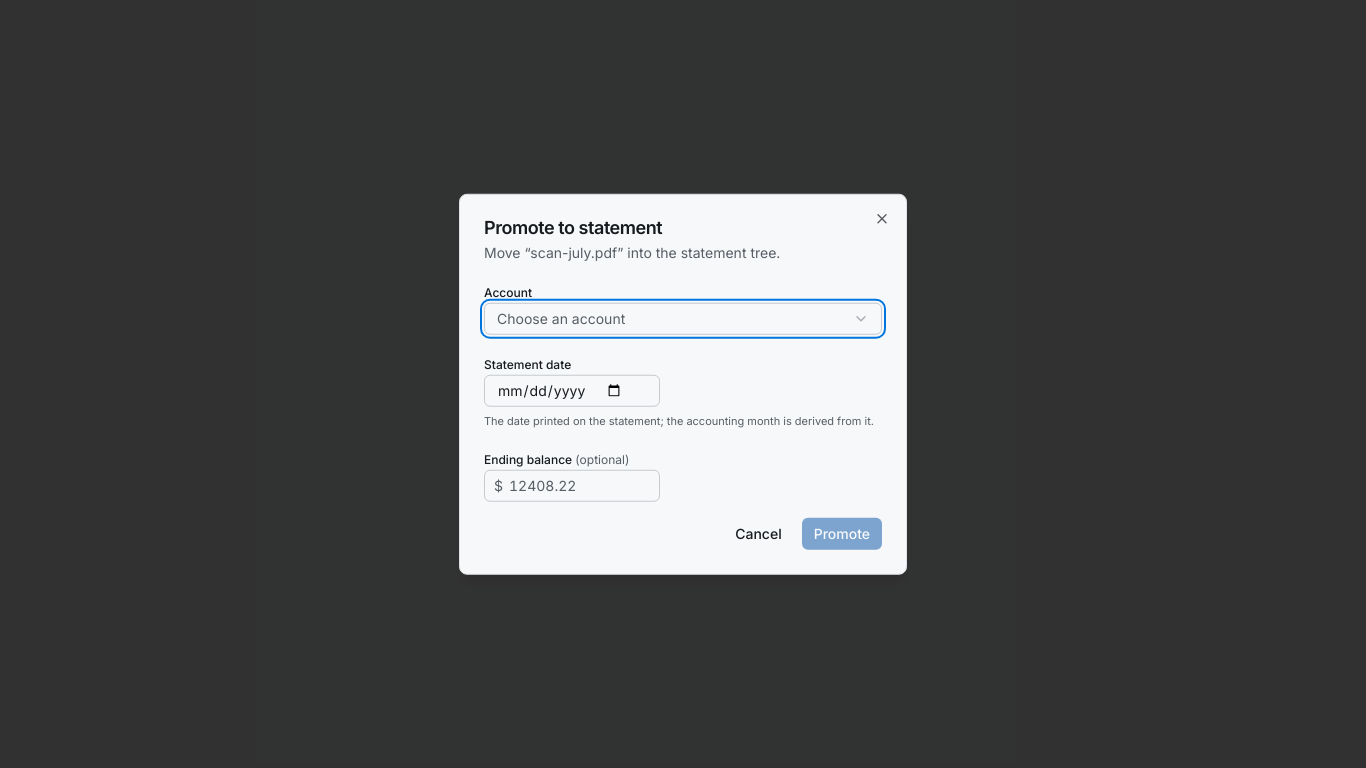
Scenario: PromoteDialog › shows server errors verbatim
Click the dropdown labelled "account" at (561, 318), box [484,303,882,335]
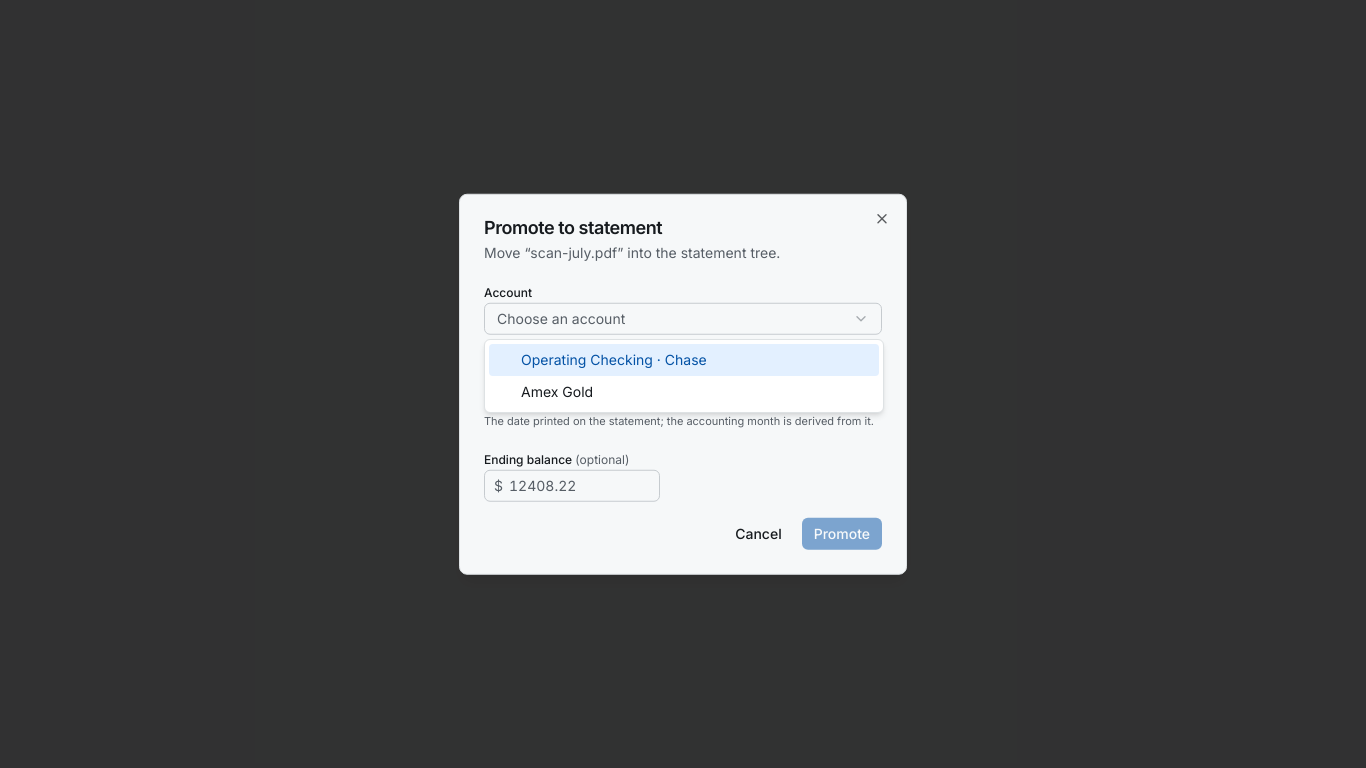
Click the option "Operating Checking · Chase" at (684, 360), box [489,344,879,376]
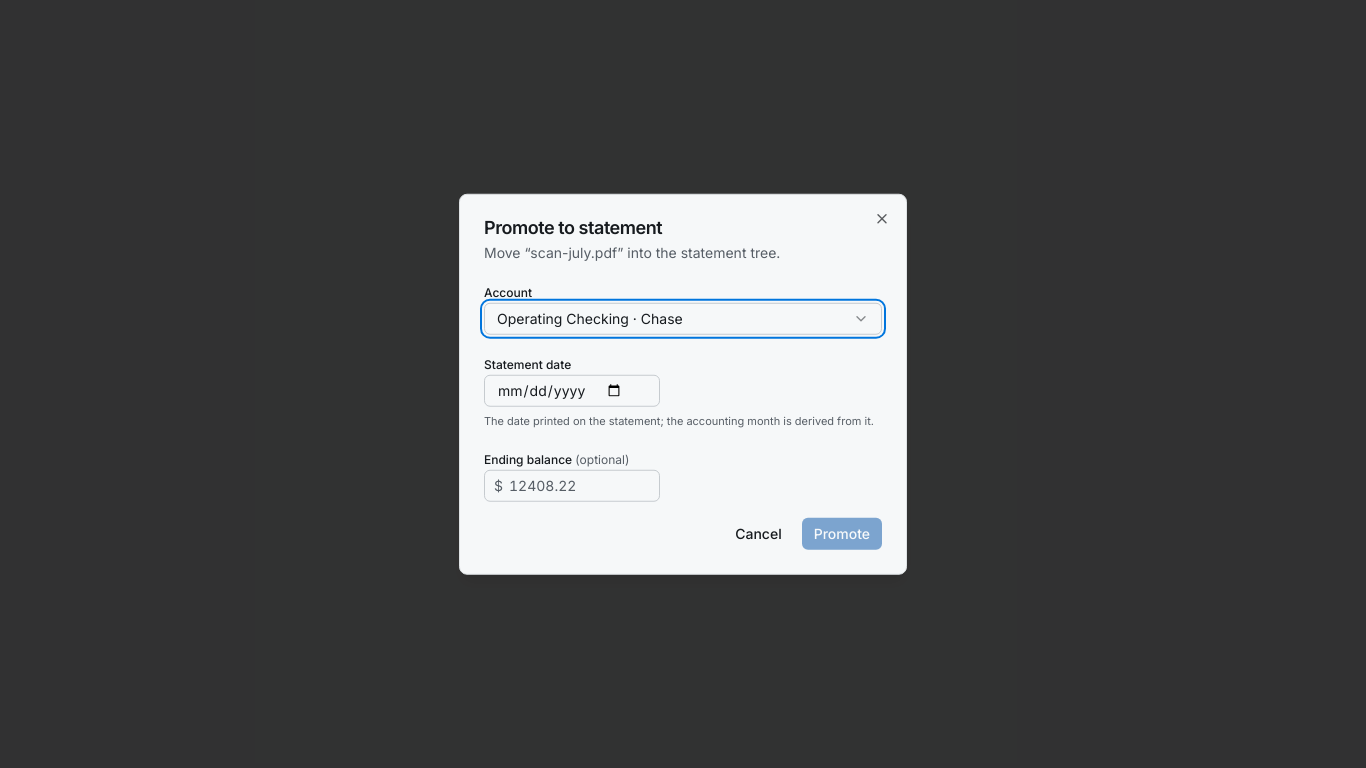
Type "2026-07-31" into the date field labelled "Statement date" at (572, 391), box [484,375,660,407]
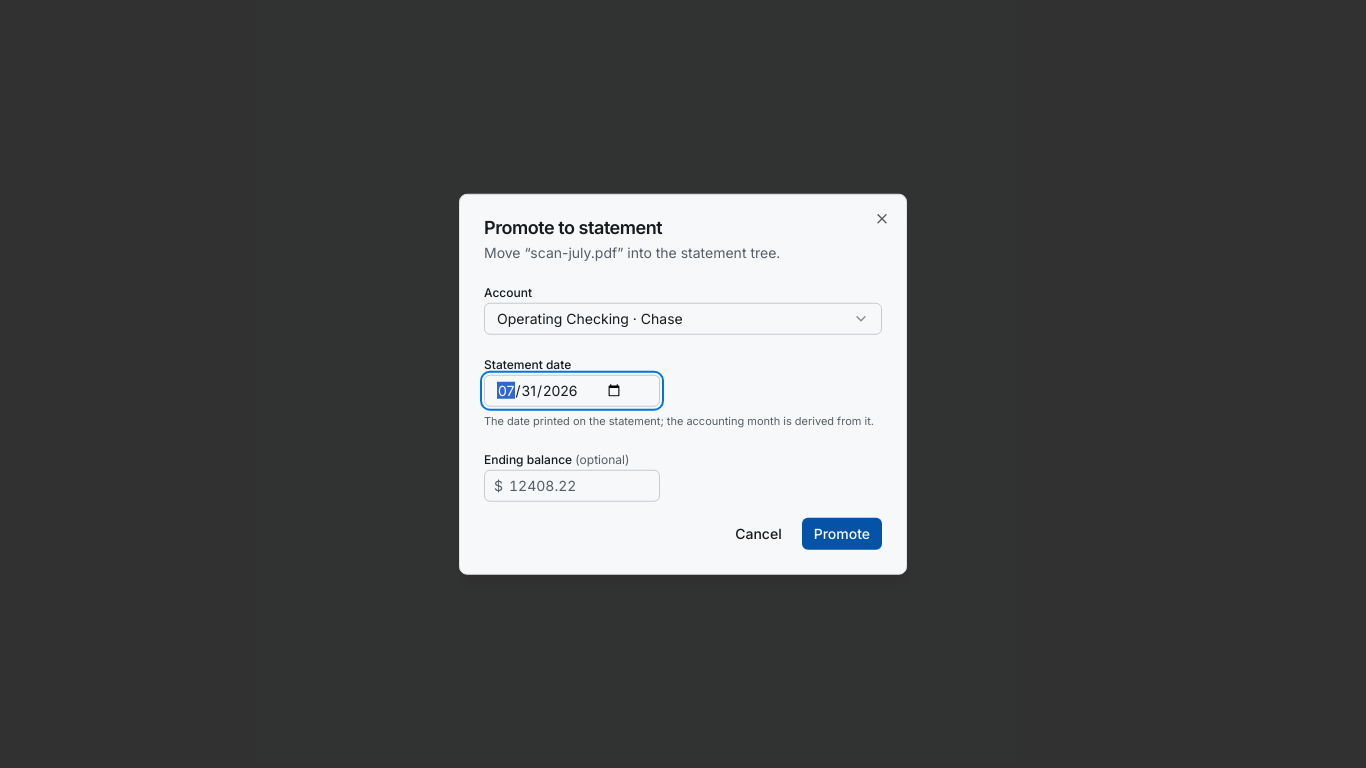
Click the button with test id "promote-submit" at (842, 533), box [802,517,882,549]
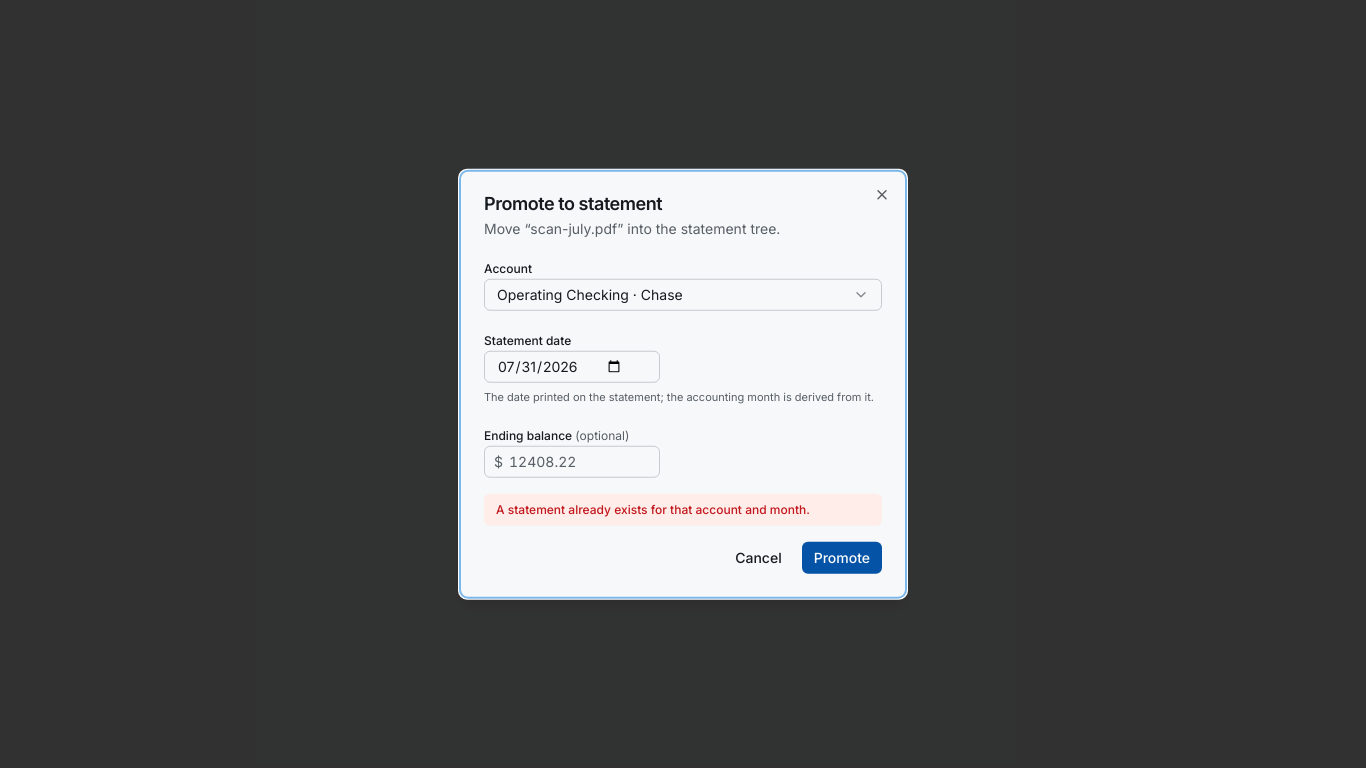
Result: the message reads "A statement already exists for that account and month." at [496,501,810,516]
